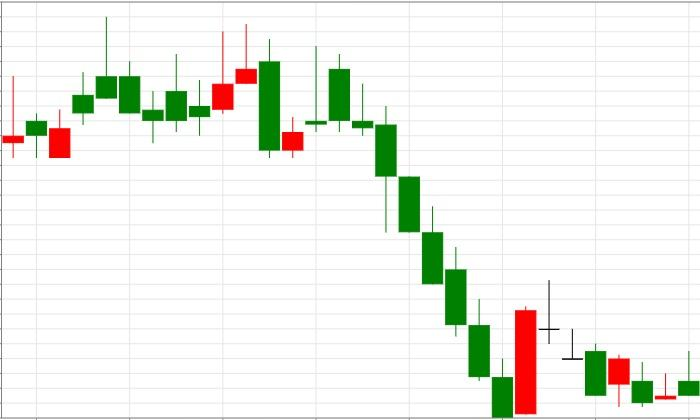shooting_star_fall: (142, 23, 258, 143), (49, 16, 118, 159)
